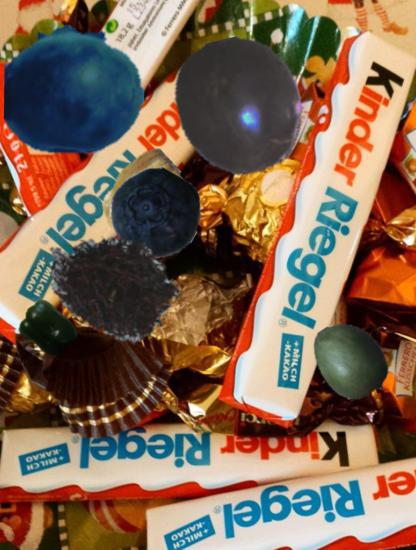Blueberry: (109, 169, 201, 261)
Huckleberry: (4, 19, 145, 160)
Mango: (310, 319, 392, 401)
Passion: (170, 38, 310, 178)
Pepper: (19, 301, 76, 358)
Physalis: (95, 150, 187, 242)
Rambutan: (42, 216, 187, 361)
